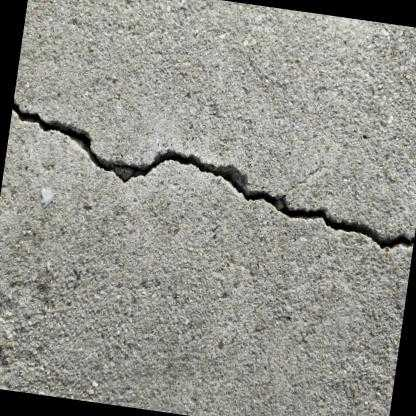crack: (11, 96, 415, 254)
